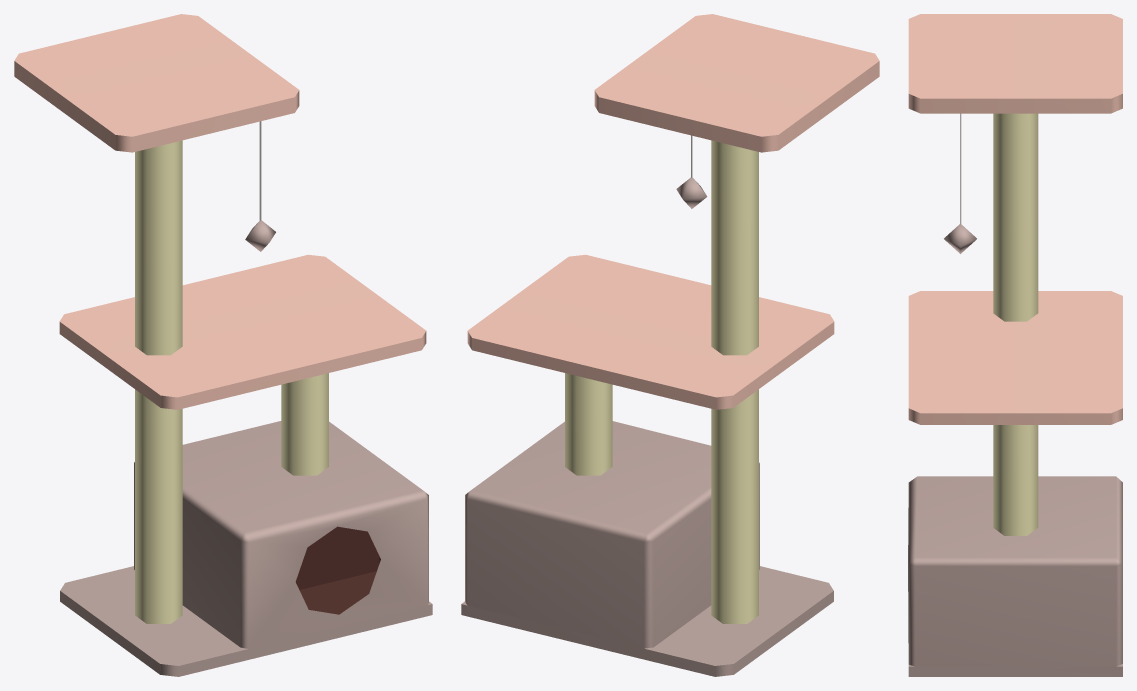
File: scratching_post.glb
3 renders of one model, left to right at view 1: azimuth 30°, elevation 25°; view 2: azimuth 150°, elevation 25°; view 3: azimuth 270°, elevation 25°, orthographic. The views are drawn at different scales.
Parts seen in each view (by area): view 1: scratching_post_001; view 2: scratching_post_001; view 3: scratching_post_001.
Boxes of the visible parts, x1,y1,x2,y2 form: scratching_post_001: (14, 14, 432, 676); scratching_post_001: (461, 14, 879, 676); scratching_post_001: (908, 14, 1122, 676).
Bounding box in the file's own units: 0.6987 × 1.18 × 0.4433.
Materials: 1 (1 with a texture image).
